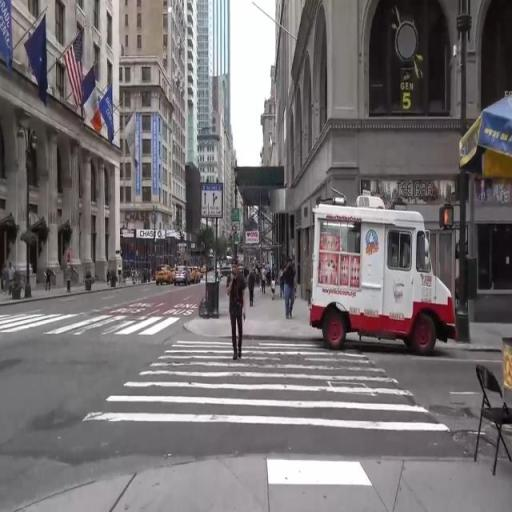person: (228, 259, 246, 360), (283, 260, 298, 316), (5, 262, 15, 294), (249, 268, 257, 307), (47, 266, 54, 296), (261, 264, 267, 298), (273, 280, 279, 301), (118, 265, 123, 284), (268, 261, 272, 283)
